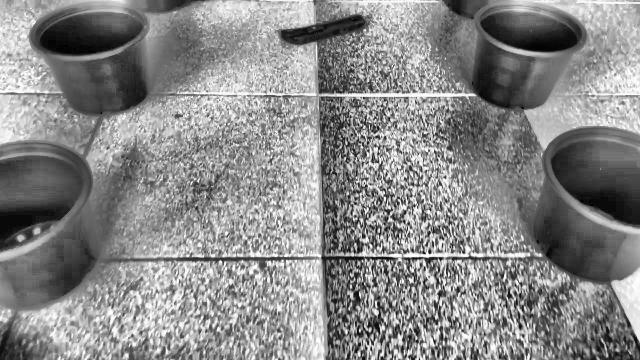pot: (532, 127, 640, 284), (0, 142, 100, 310), (28, 2, 151, 116), (472, 0, 588, 110)
